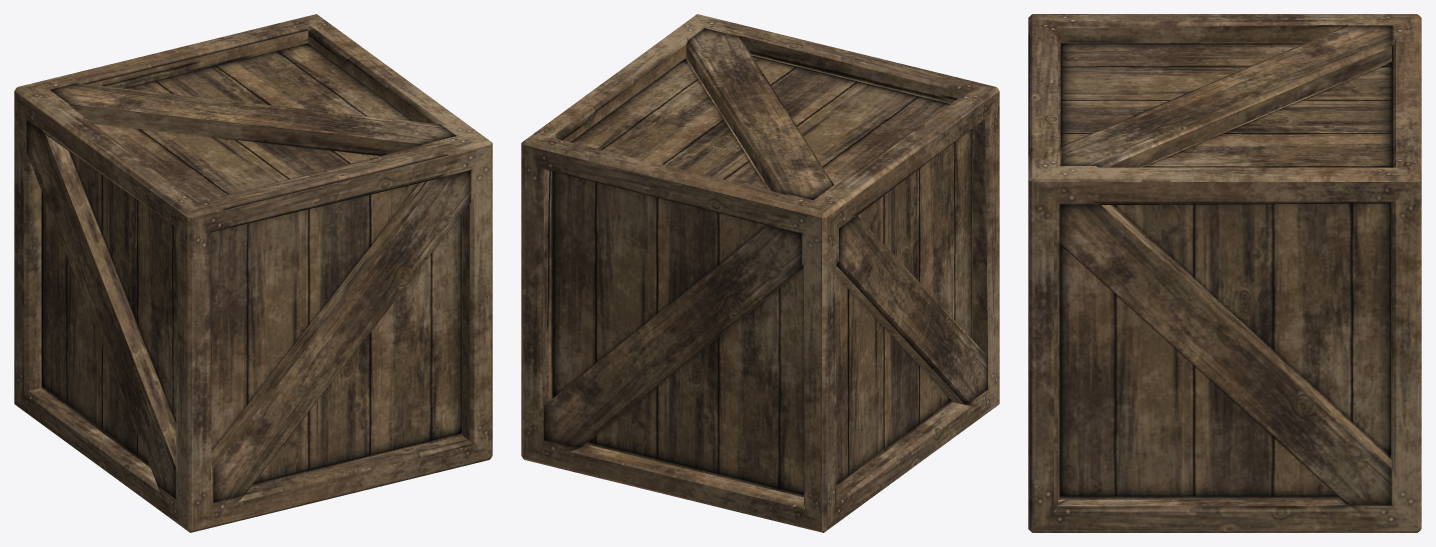
File: wooden_crate.glb
3 renders of one model, left to right at view 1: azimuth 30°, elevation 25°; view 2: azimuth 150°, elevation 25°; view 3: azimuth 270°, elevation 25°, orthographic. The views are drawn at different scales.
Parts seen in each view (by area): view 1: Crate_0; view 2: Crate_0; view 3: Crate_0.
Part boxes in pixels (left/top/right/bottom): Crate_0: left=14, top=14, right=492, bottom=532; Crate_0: left=521, top=14, right=999, bottom=532; Crate_0: left=1028, top=14, right=1421, bottom=532.
Size of the model in its own units: 1 by 1 by 1.
Materials: 1 (1 with a texture image).
